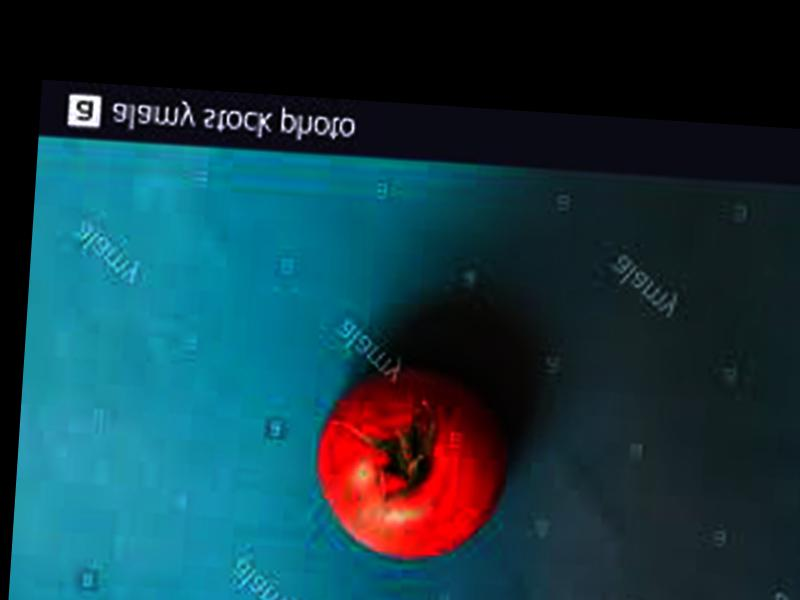Tomato: (311, 360, 510, 566)
